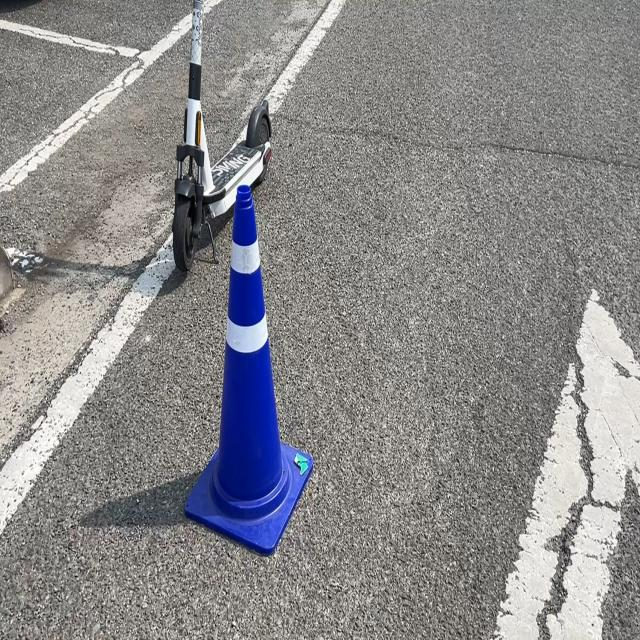b_rub: (184, 184, 313, 554)
